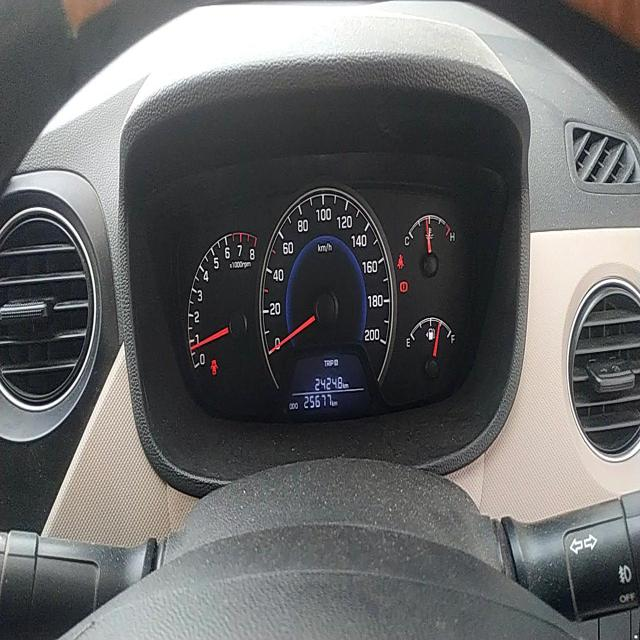odometer: (303, 392, 333, 411)
